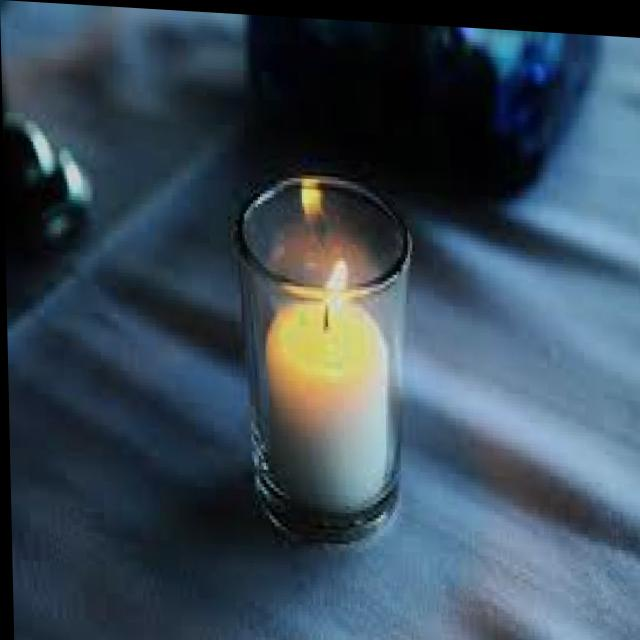fire: (311, 249, 354, 317)
